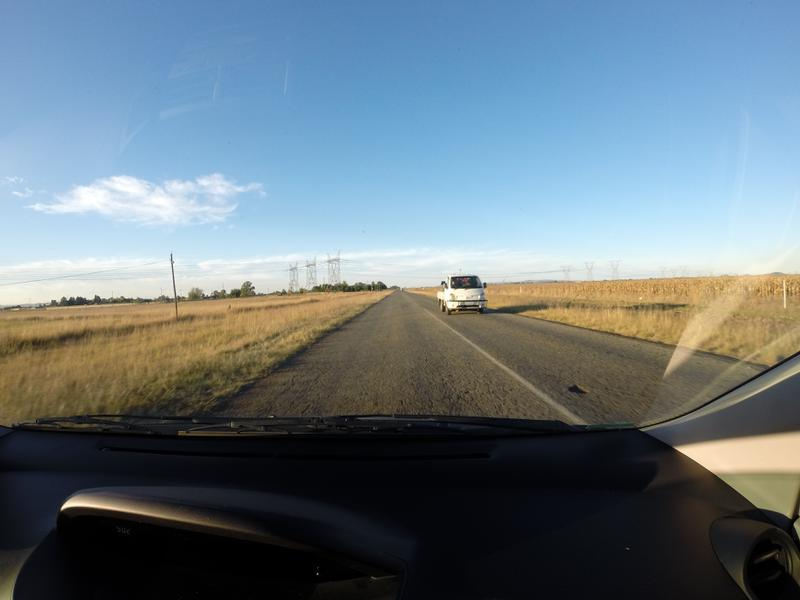pothole: (558, 372, 608, 411)
